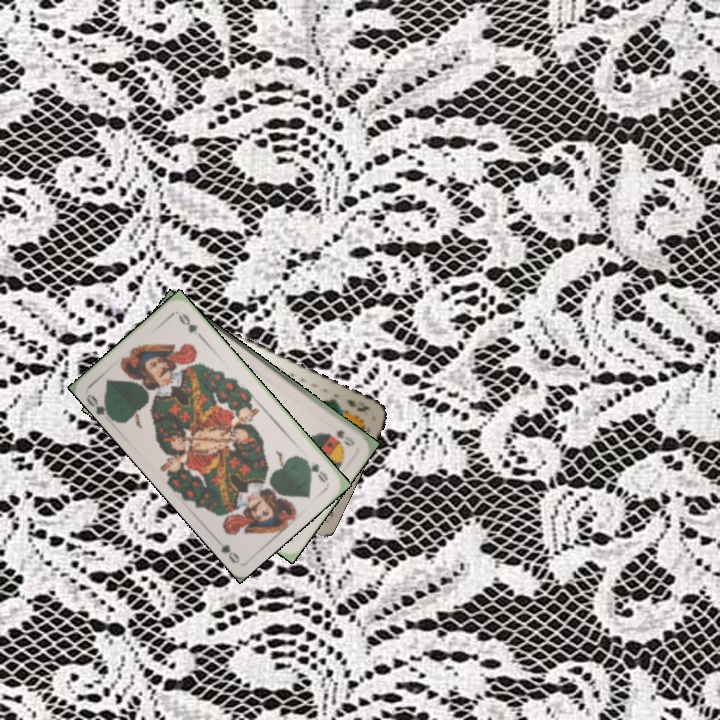EK: (342, 395, 372, 414)
GO: (82, 390, 115, 422), (298, 454, 331, 485)
SO: (332, 425, 357, 449)
